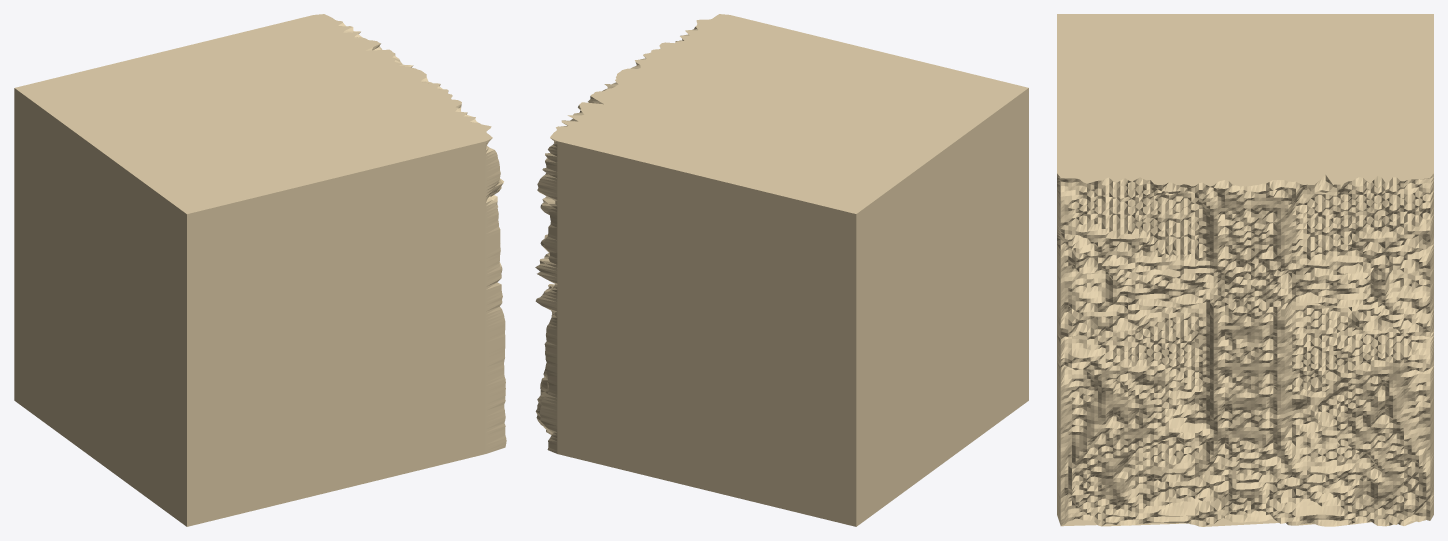
The model's file is cross5.png.obj.
3 renders of one model, left to right at view 1: azimuth 30°, elevation 25°; view 2: azimuth 150°, elevation 25°; view 3: azimuth 270°, elevation 25°, orthographic. The views are drawn at different scales.
Visible parts, largest first — view 1: Cube; view 2: Cube; view 3: Cube.
Boxes of the visible parts, x1,y1,x2,y2 form: Cube: [14, 14, 506, 526]; Cube: [535, 14, 1028, 526]; Cube: [1057, 14, 1433, 526].
Size of the model in its own units: 1.1 by 1 by 1.
